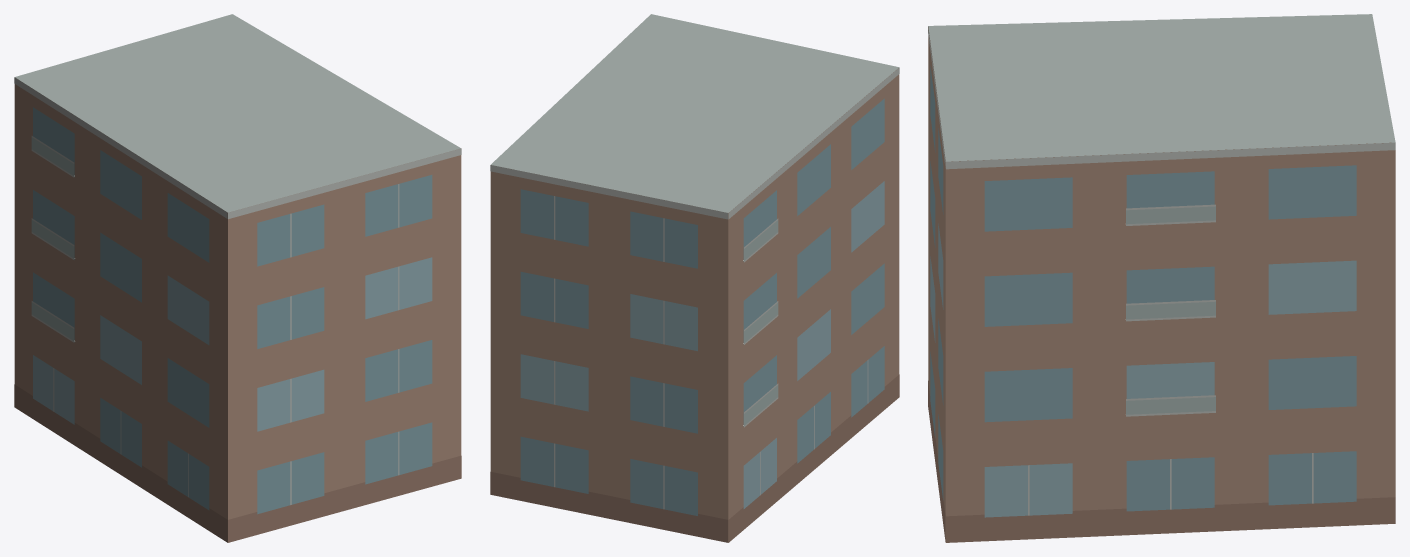
Rendered from survey-upis-32811069.glb.
3 views of the same model, side by side, from view 1: azimuth 30°, elevation 25°; view 2: azimuth 150°, elevation 25°; view 3: azimuth 270°, elevation 25° (orthographic). The views are drawn at different scales.
Parts seen in each view (by area): view 1: survey-upis-32811069.tmp; view 2: survey-upis-32811069.tmp; view 3: survey-upis-32811069.tmp.
Part boxes in pixels (<box>): survey-upis-32811069.tmp: <box>14,14,461,542</box>; survey-upis-32811069.tmp: <box>490,14,899,542</box>; survey-upis-32811069.tmp: <box>928,14,1395,542</box>.
Size of the model in its own units: 10.15 by 12.2 by 13.57.
